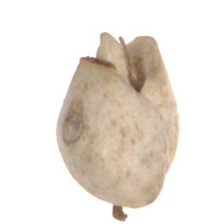L1: (78, 32, 160, 91), (105, 199, 164, 211)
L2: (56, 32, 179, 209)
